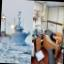fishing boat: (0, 9, 31, 46)
